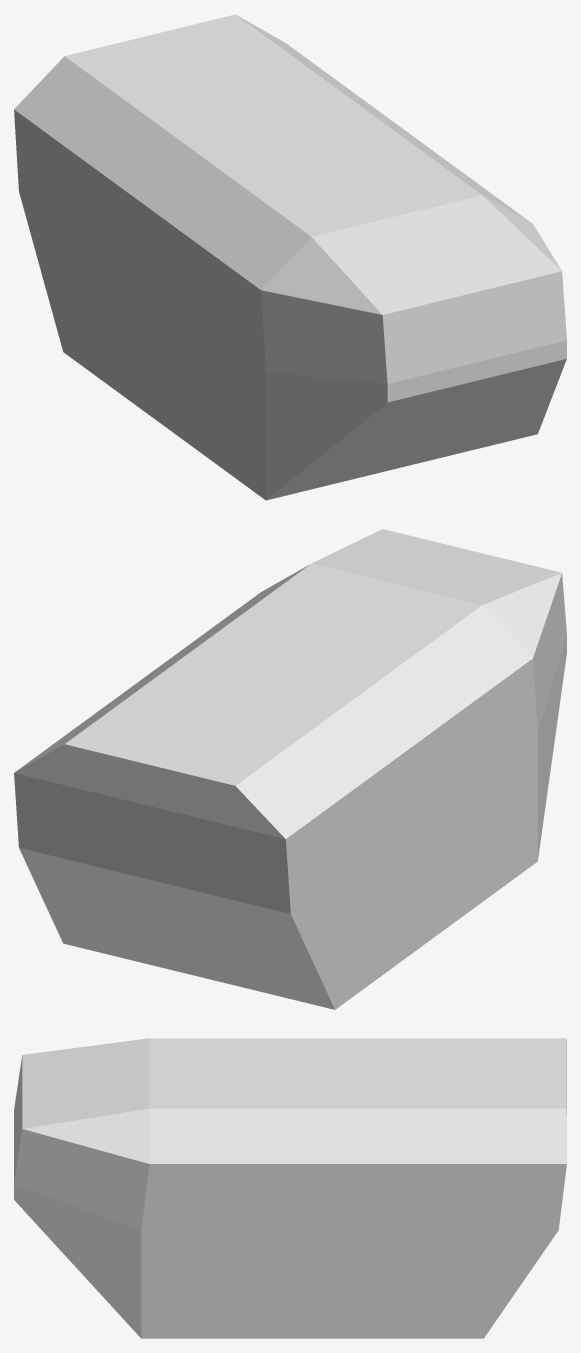
Rendered from body.fbx.
The picture shows the model from 3 angles, top to bottom: view 1: azimuth 30°, elevation 25°; view 2: azimuth 150°, elevation 25°; view 3: azimuth 270°, elevation 25°; orthographic projection. The views are drawn at different scales.
Parts seen in each view (by area): view 1: Cube.003; view 2: Cube.003; view 3: Cube.003.
Part boxes in pixels (x1,y1,x2,y2): Cube.003: (14, 14, 566, 500); Cube.003: (14, 529, 566, 1009); Cube.003: (14, 1038, 566, 1338).
Size of the model in its own units: 300 by 261 by 626.
Materials: 1 (1 with a texture image).
